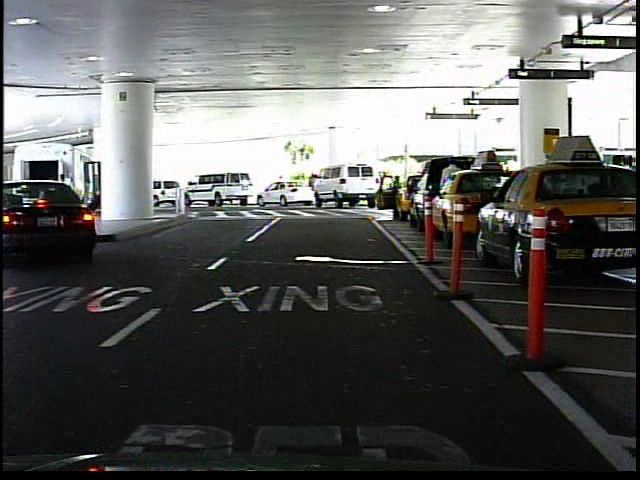person: (439, 155, 465, 228), (272, 172, 288, 204), (307, 172, 320, 202)
